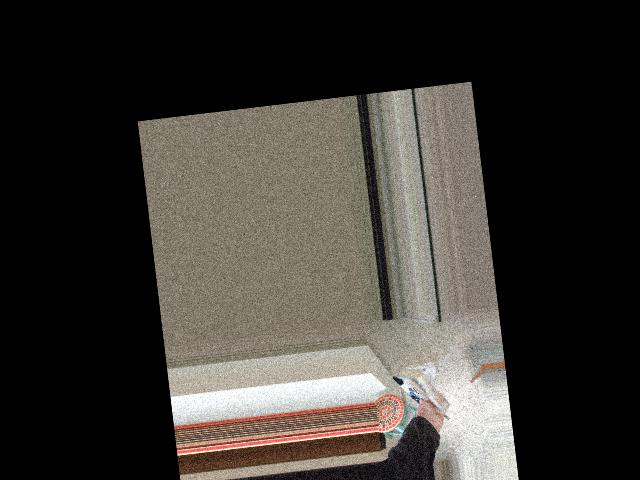cheese: (382, 354, 458, 436)
